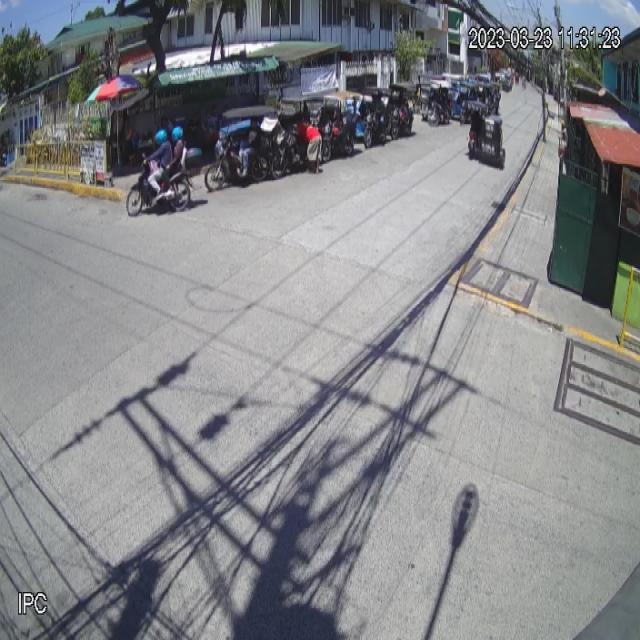Motorcycle: (126, 149, 196, 219)
